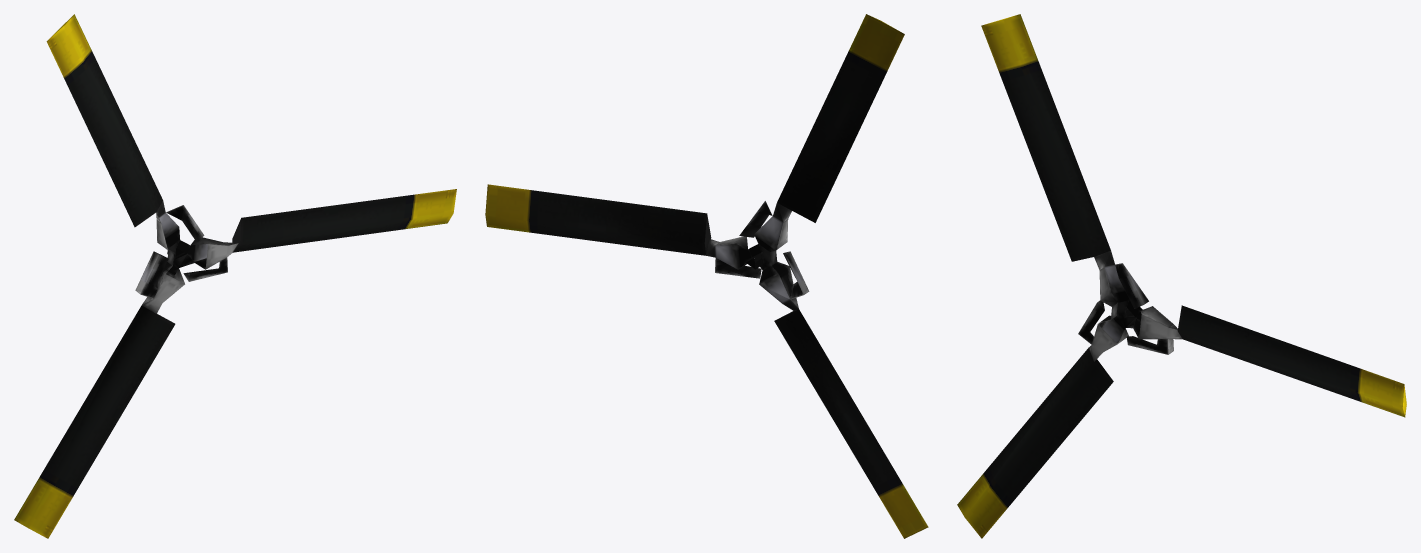
The model's file is backBlade4.obj.
3 renders of one model, left to right at view 1: azimuth 30°, elevation 25°; view 2: azimuth 150°, elevation 25°; view 3: azimuth 330°, elevation 25°, orthographic. The views are drawn at different scales.
Parts seen in each view (by area): view 1: Null_glass.005_Body; view 2: Null_glass.005_Body; view 3: Null_glass.005_Body.
Boxes of the visible parts, left/top/right/bottom form: Null_glass.005_Body: left=14, top=14, right=456, bottom=538; Null_glass.005_Body: left=485, top=14, right=928, bottom=538; Null_glass.005_Body: left=957, top=14, right=1406, bottom=538.
Bounding box in the file's own units: 1.32 × 1.47 × 0.0838.
Materials: 1 (1 with a texture image).
